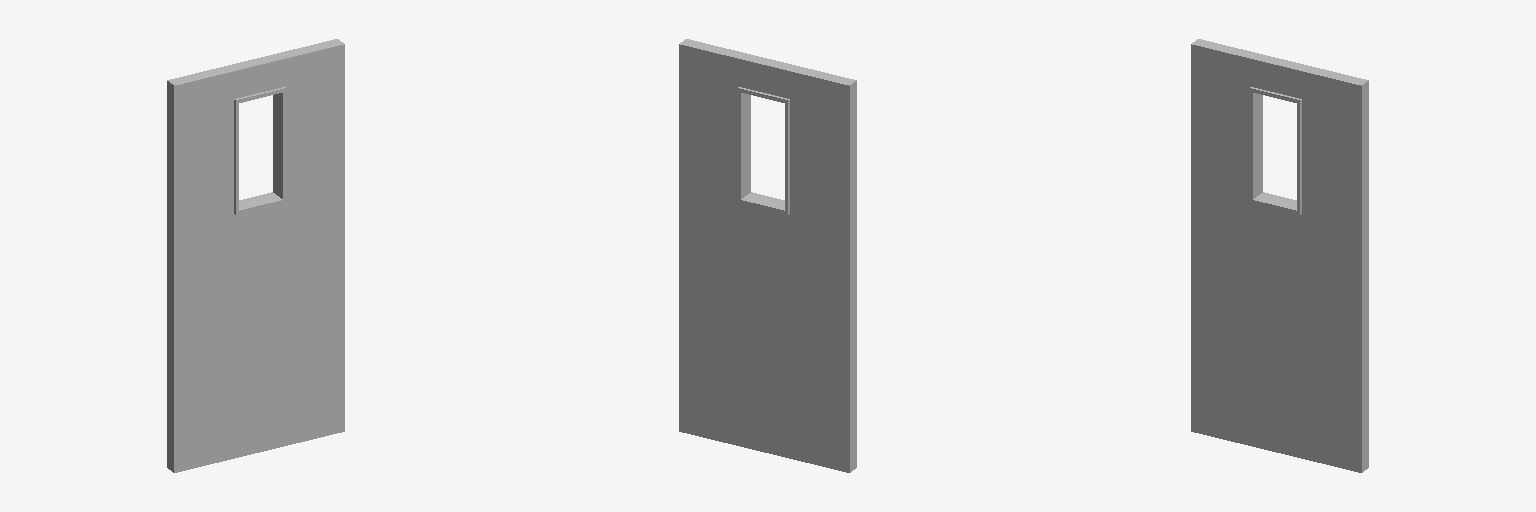
File: sgc_door_single_windowed.obj
3 renders of one model, left to right at view 1: azimuth 30°, elevation 25°; view 2: azimuth 150°, elevation 25°; view 3: azimuth 330°, elevation 25°, orthographic.
Visible parts, largest first — view 1: Door_Single_Windowed; view 2: Door_Single_Windowed; view 3: Door_Single_Windowed.
Part boxes in pixels (bbox=[...]): Door_Single_Windowed: bbox=[167, 39, 344, 472]; Door_Single_Windowed: bbox=[679, 39, 856, 472]; Door_Single_Windowed: bbox=[1191, 39, 1368, 472].
Size of the model in its own units: 1.18 by 2.57 by 0.127.